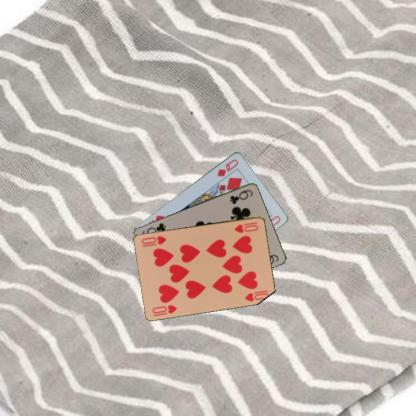10h: (232, 220, 259, 234), (150, 302, 178, 314)
6c: (227, 187, 254, 205)
Qd: (214, 156, 239, 177)
